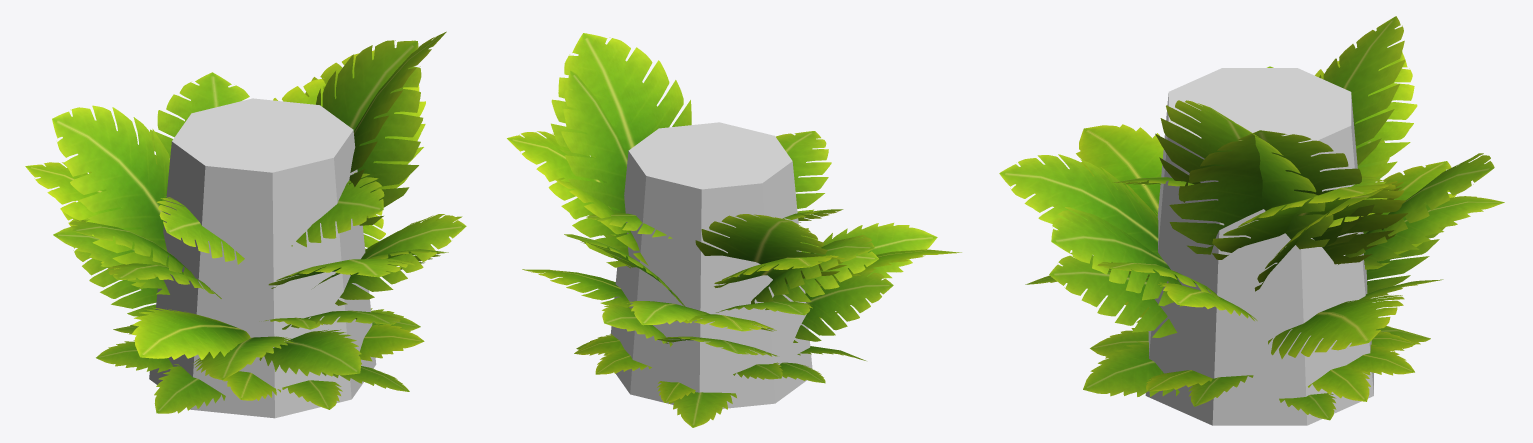
Rendered from IO_Bush_Tropical_A.glb.
3 renders of one model, left to right at view 1: azimuth 30°, elevation 25°; view 2: azimuth 150°, elevation 25°; view 3: azimuth 270°, elevation 25°, orthographic. The views are drawn at different scales.
Parts seen in each view (by area): view 1: IO_Bush_Tropical_A_LOD0, IO_Bush_Tropical_A_COL; view 2: IO_Bush_Tropical_A_LOD0, IO_Bush_Tropical_A_COL; view 3: IO_Bush_Tropical_A_LOD0, IO_Bush_Tropical_A_COL.
Boxes of the visible parts, bbox=[...] form: IO_Bush_Tropical_A_LOD0: bbox=[25, 31, 466, 413]; IO_Bush_Tropical_A_COL: bbox=[149, 98, 376, 418]; IO_Bush_Tropical_A_LOD0: bbox=[507, 33, 961, 427]; IO_Bush_Tropical_A_COL: bbox=[610, 122, 812, 408]; IO_Bush_Tropical_A_LOD0: bbox=[999, 16, 1504, 420]; IO_Bush_Tropical_A_COL: bbox=[1145, 68, 1373, 425].
Size of what is drawn, in the model's own units: 1.6 by 1.22 by 1.52.
Materials: 1 (1 with a texture image).
